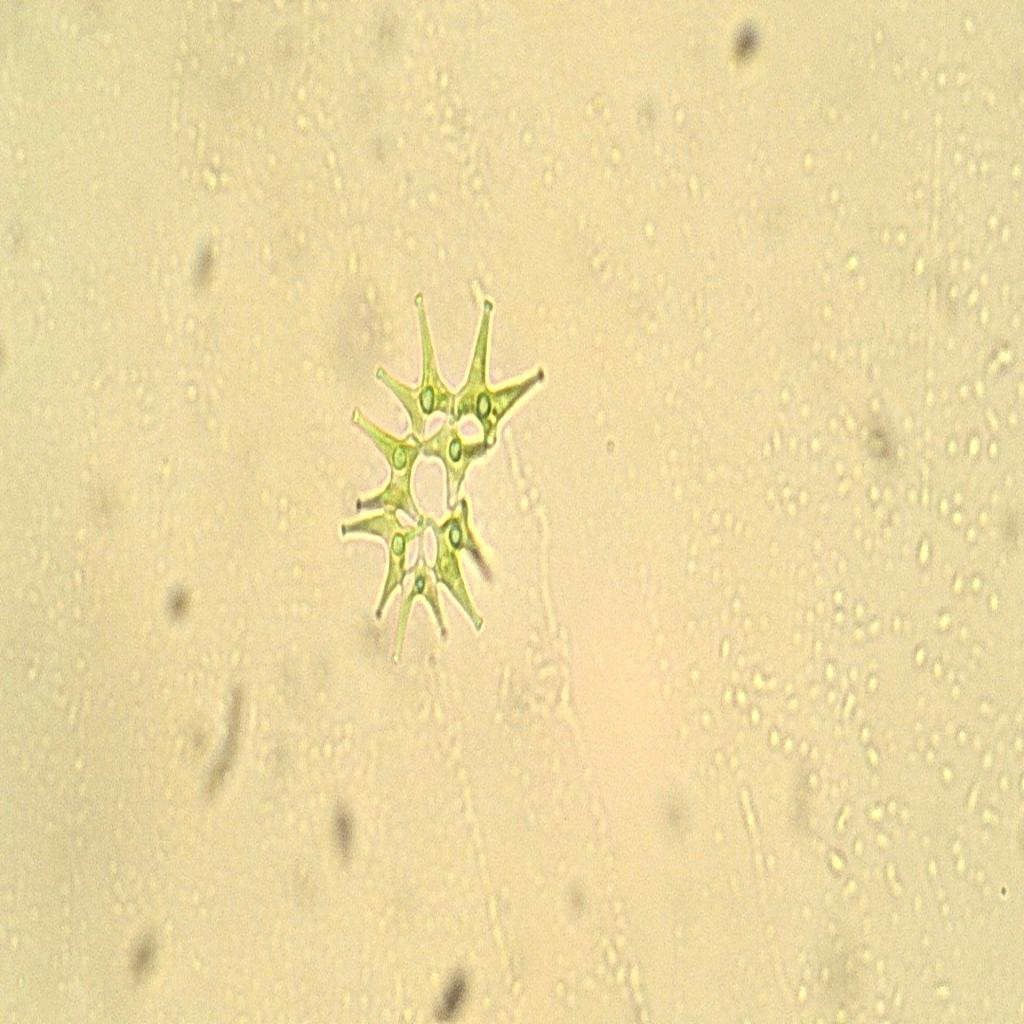Pediastrum_CFI: (331, 242, 555, 704)
